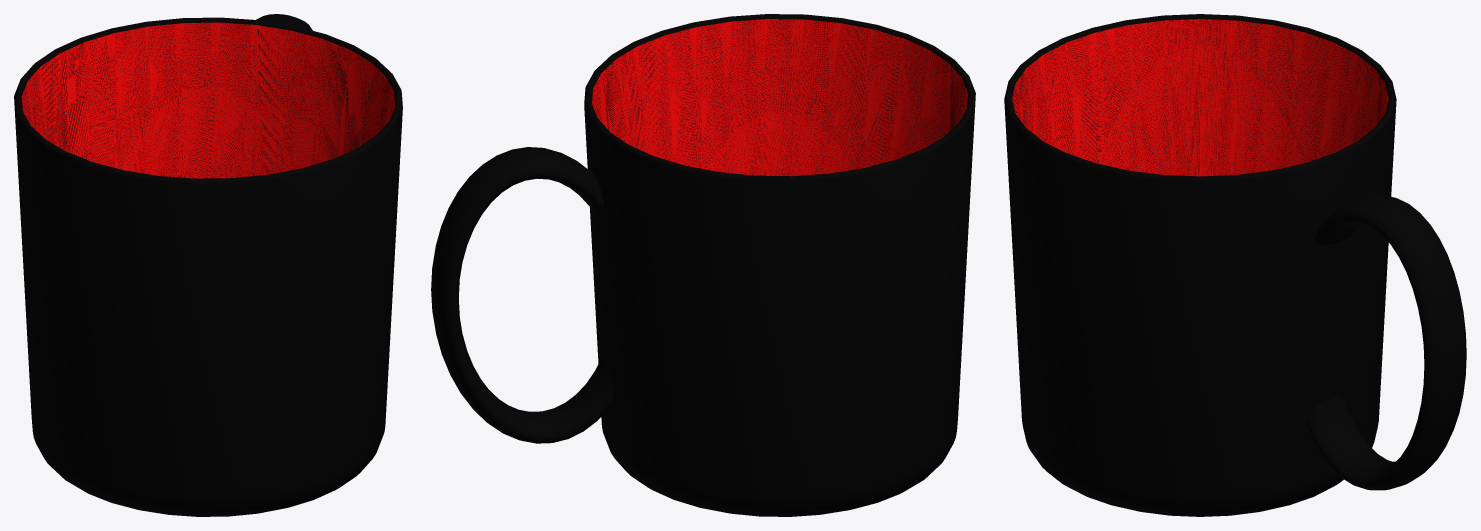
File: mug_08_origin_gt_4.dae
3 views of the same model, side by side, from view 1: azimuth 30°, elevation 25°; view 2: azimuth 150°, elevation 25°; view 3: azimuth 270°, elevation 25° (orthographic).
Parts seen in each view (by area): view 1: Copo (×2), Alça; view 2: Copo (×2), Alça; view 3: Copo (×2), Alça.
Part boxes in pixels (<box>): Copo (×2): <box>14,17,402,516</box>; Alça: <box>256,14,312,30</box>; Copo (×2): <box>584,14,975,516</box>; Alça: <box>431,147,614,443</box>; Copo (×2): <box>1004,14,1396,516</box>; Alça: <box>1307,195,1466,490</box>.
Bounding box in the file's own units: 4.18 × 4.18 × 3.58.
